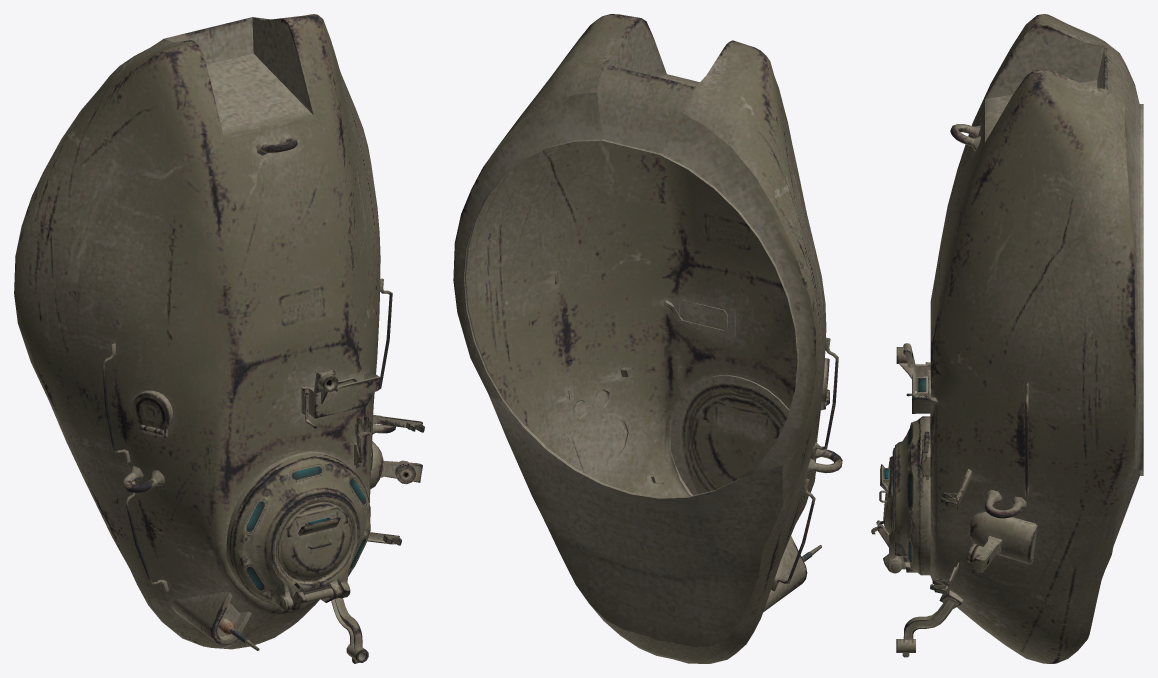
The model's file is Turret_01.glb.
3 views of the same model, side by side, from view 1: azimuth 30°, elevation 25°; view 2: azimuth 150°, elevation 25°; view 3: azimuth 270°, elevation 25° (orthographic). The views are drawn at different scales.
Parts seen in each view (by area): view 1: set_0_group_0; view 2: set_0_group_0; view 3: set_0_group_0.
Part boxes in pixels (left/top/right/bottom): set_0_group_0: left=14, top=14, right=424, bottom=663; set_0_group_0: left=453, top=14, right=842, bottom=663; set_0_group_0: left=871, top=14, right=1143, bottom=663.
Bounding box in the file's own units: 2.34 × 3.85 × 1.57.
Materials: 1 (1 with a texture image).
